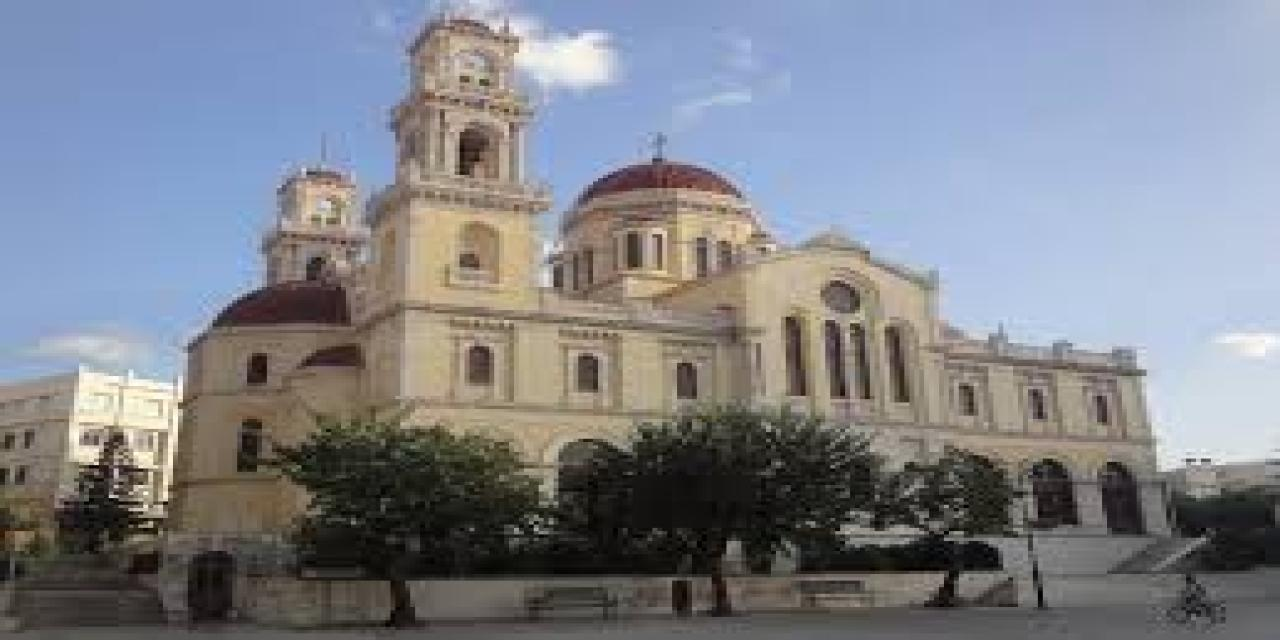Agios Minas: (159, 10, 1180, 544)
